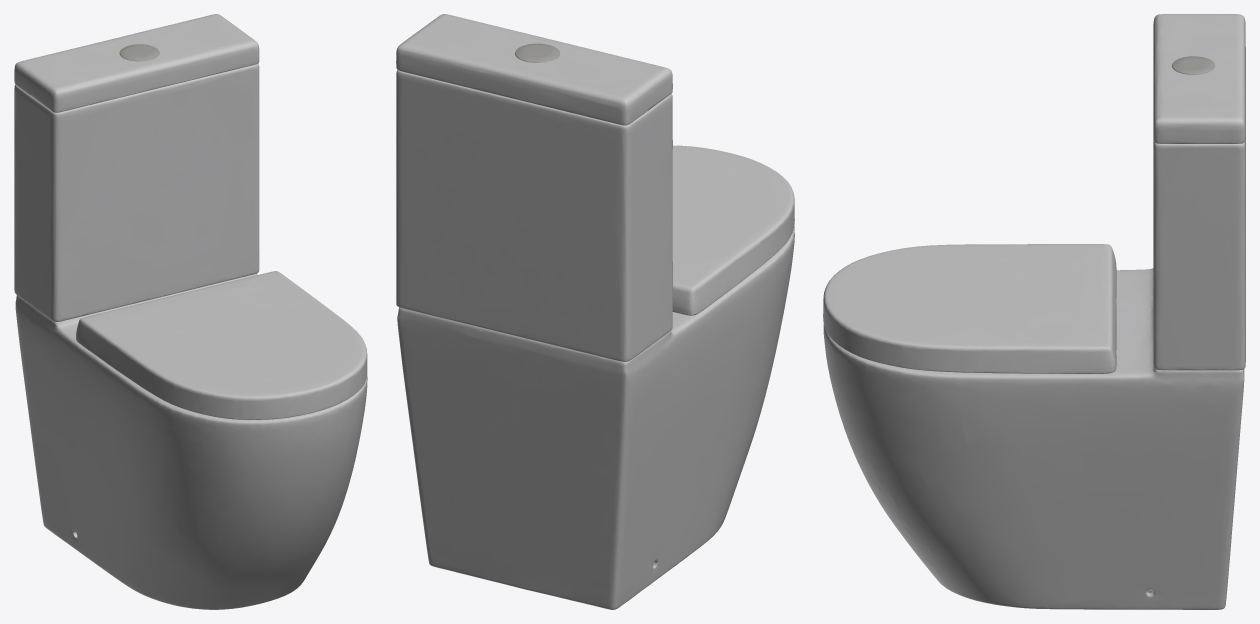
Rendered from toilet-btw.glb.
3 renders of one model, left to right at view 1: azimuth 30°, elevation 25°; view 2: azimuth 150°, elevation 25°; view 3: azimuth 270°, elevation 25°, orthographic. The views are drawn at different scales.
Bounding box in the file's own units: 0.8847 × 1.9 × 1.45.
1 material, 1 textured.
